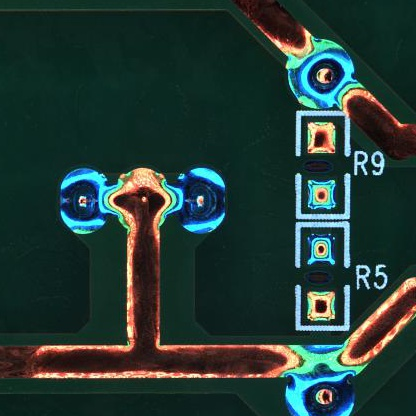spot: (284, 36, 358, 109), (173, 167, 228, 235), (59, 165, 110, 235), (285, 364, 352, 416)
